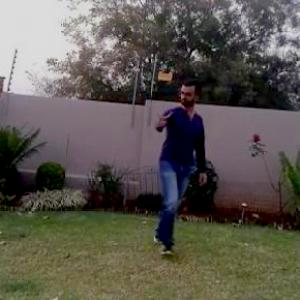takeoff-hand: (150, 102, 175, 128)
